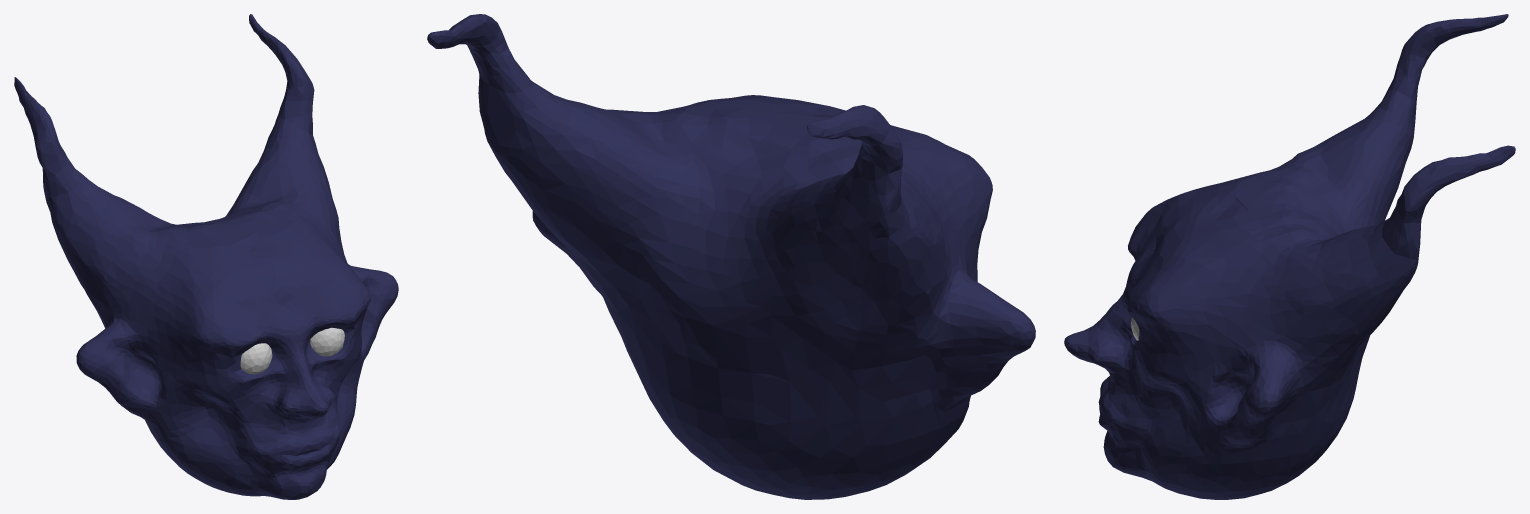
File: goblin.gltf
3 renders of one model, left to right at view 1: azimuth 30°, elevation 25°; view 2: azimuth 150°, elevation 25°; view 3: azimuth 270°, elevation 25°, orthographic. The views are drawn at different scales.
Parts seen in each view (by area): view 1: goblin; view 2: goblin; view 3: goblin.
Boxes of the visible parts, bbox=[...] form: goblin: bbox=[14, 14, 398, 499]; goblin: bbox=[427, 14, 1035, 499]; goblin: bbox=[1064, 14, 1515, 499].
Bounding box in the file's own units: 3.12 × 3.28 × 3.28.
